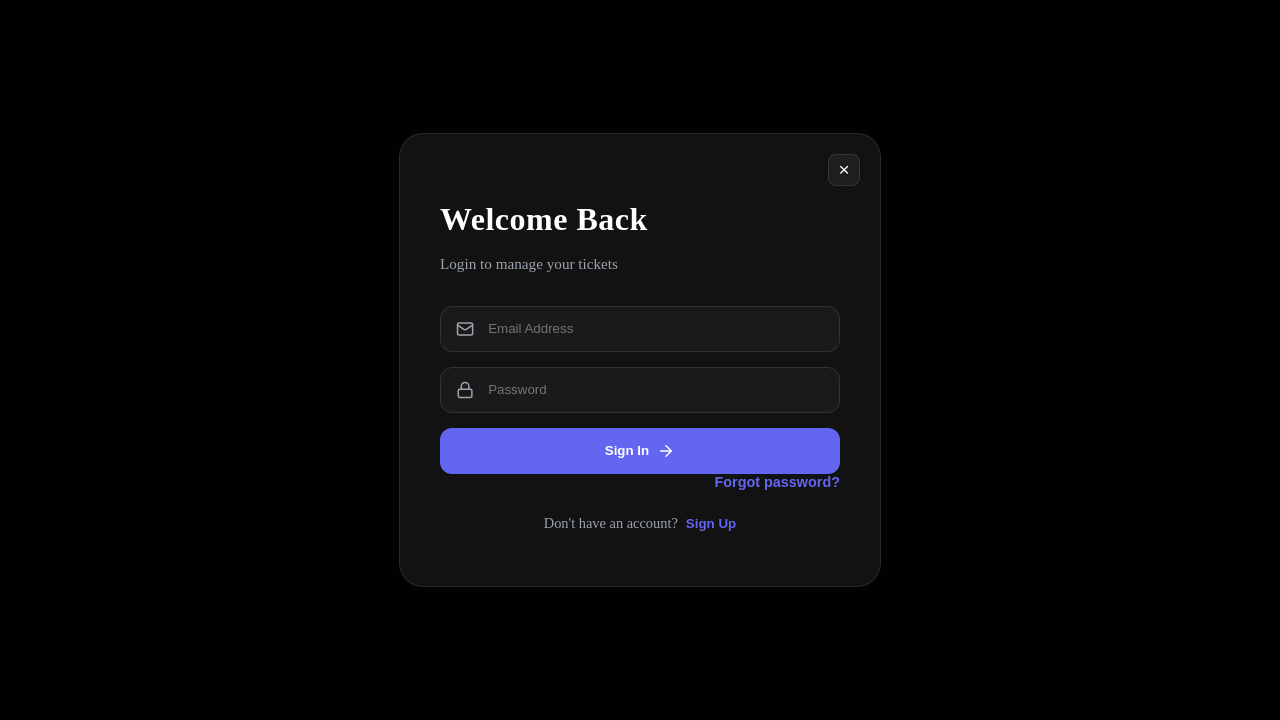
Auth › shows client-side validation before submitting invalid login input
Type "user@example.com" into the field with placeholder "Email Address" at x=655, y=329, box [486,320,824,337]
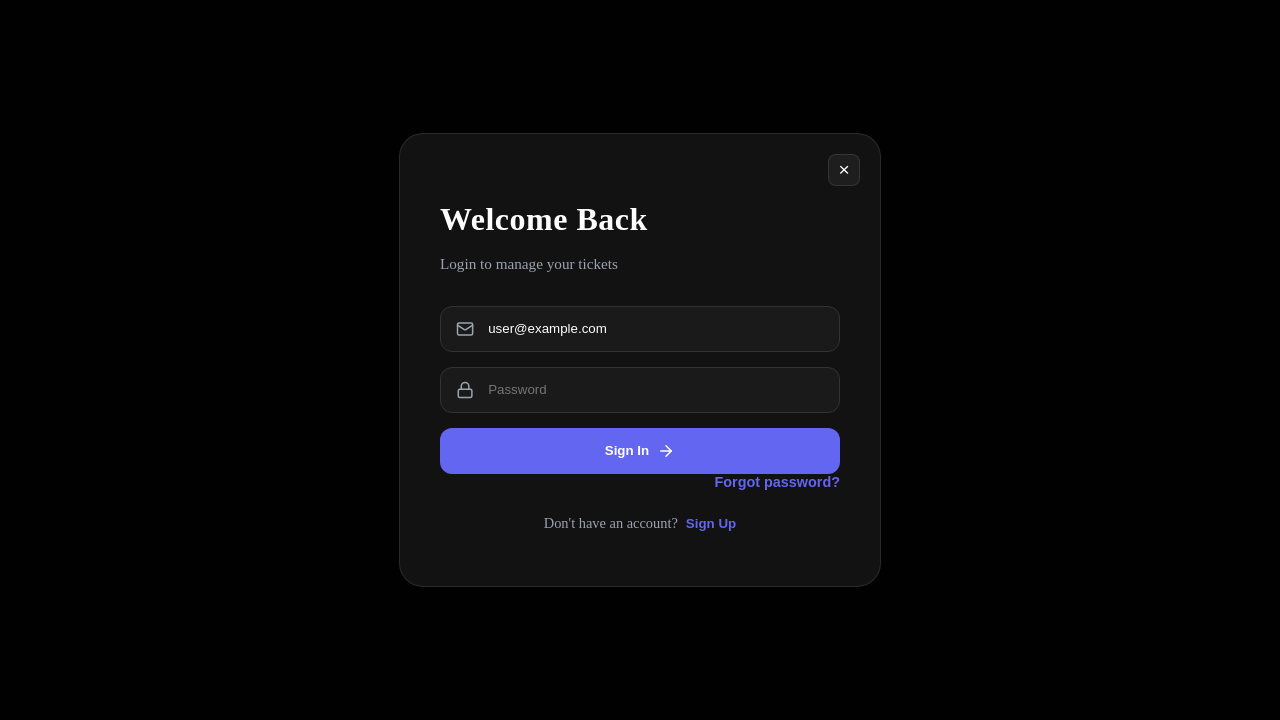
Type "short" into the password field with placeholder "Password" at x=655, y=390, box [486,381,824,398]
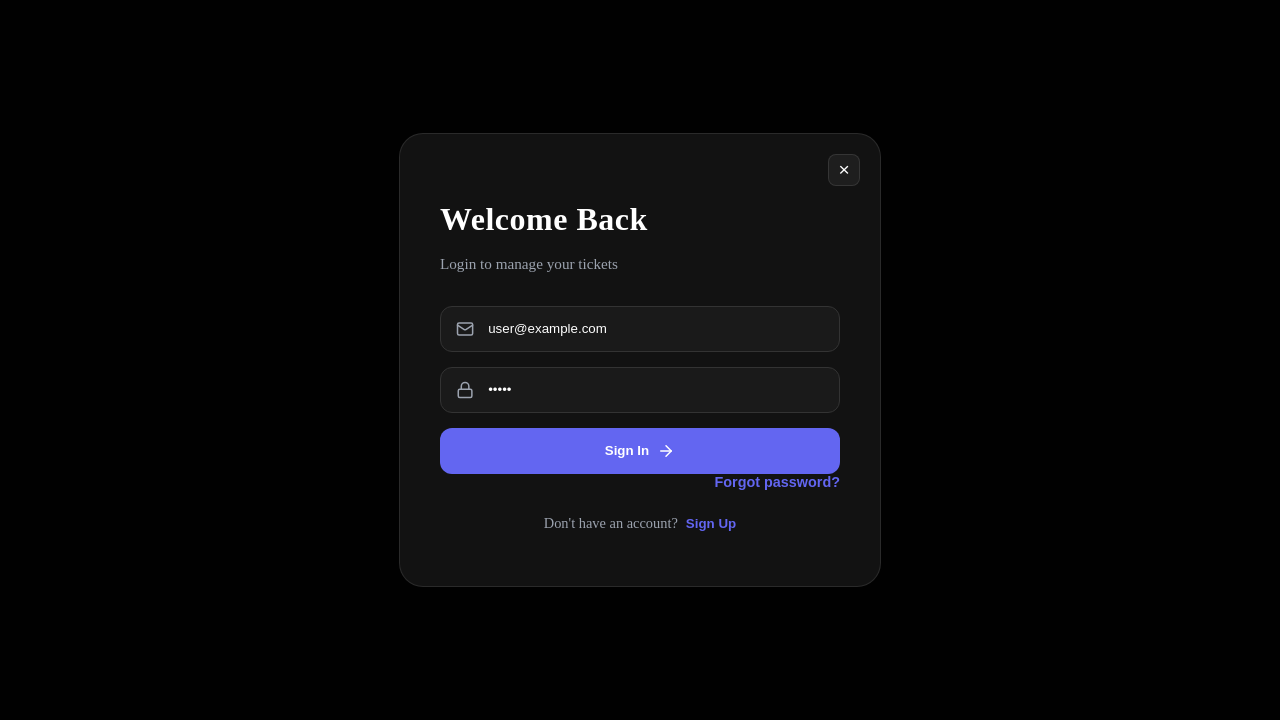
Click the button "Sign In" at x=640, y=451, box [440,428,840,474]
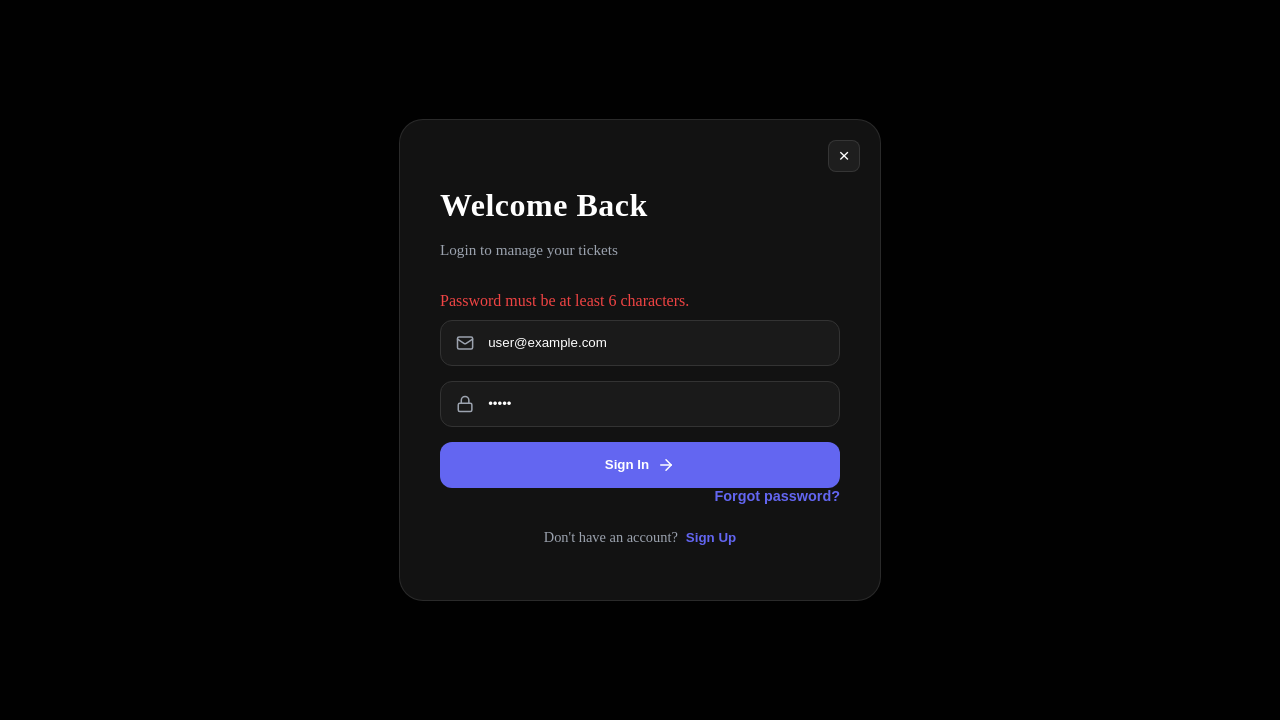
Result: the text "Password must be at least 6 characters." is shown at [440,292,689,309]
